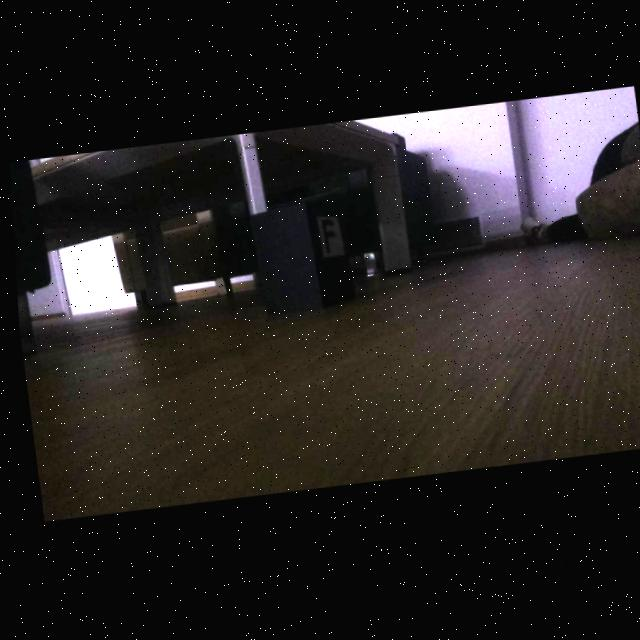F: (319, 222, 332, 256)
